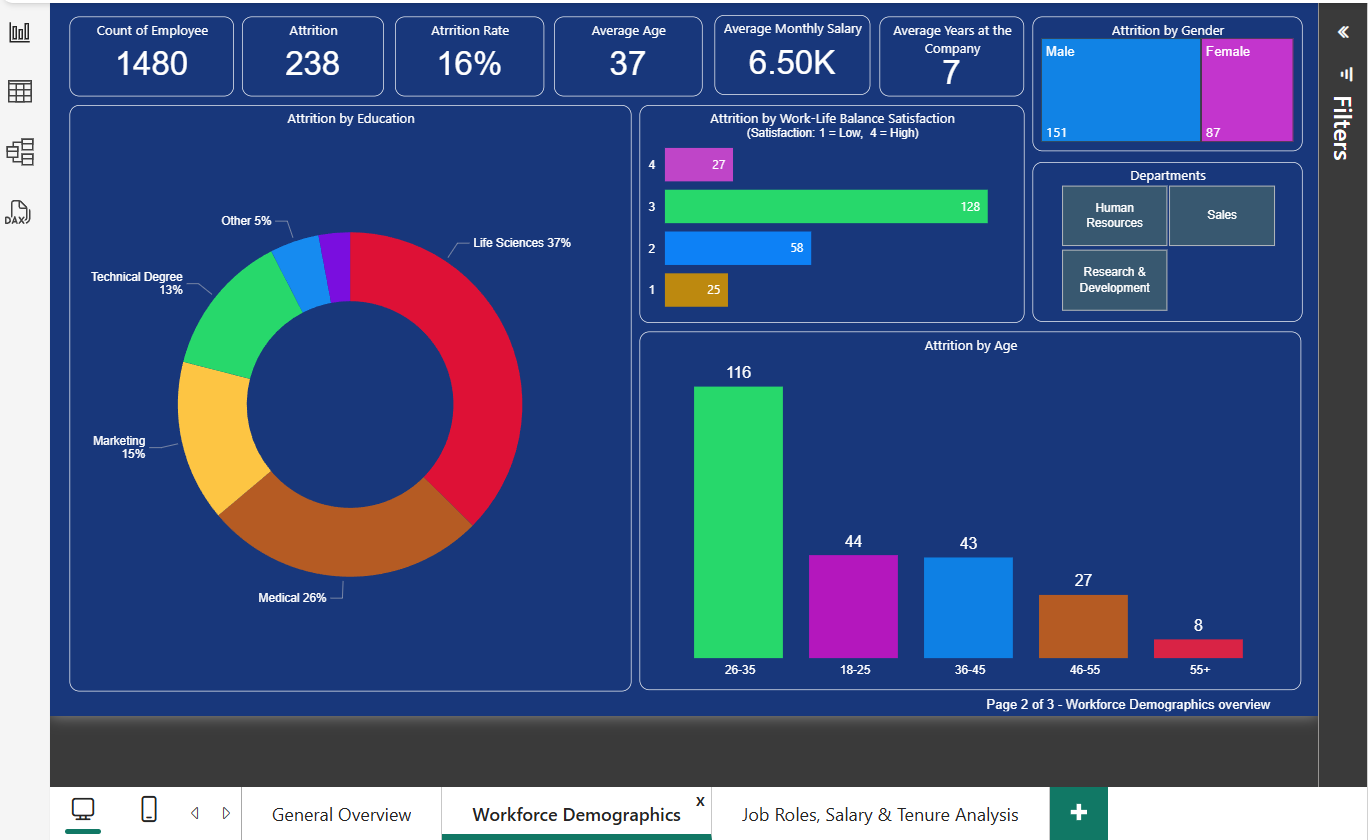

What the dashboard file says about the page in this screenshot:
{"tool":"powerbi","page":{"name":"Workforce Demographics","canvas":[1280,720],"ordinal":1},"visuals":[{"type":"card","title":"Count of Employee","fields":{"Values":["CountNonNull(HR_Data.EmpID)"]},"box":[20,13.6,166.1,80.8],"z":0},{"type":"card","title":"Attrition","fields":{"Values":["Sum(HR_Data.Attriction_Count)"]},"box":[193.4,13.6,143.4,80.8],"z":1000},{"type":"card","title":"Atrrition Rate","fields":{"Values":["HR_Data.Attriction_Rate"]},"box":[347.7,13.6,150.7,80.8],"z":2000},{"type":"card","title":"Average Age","fields":{"Values":["Avg(HR_Data.Age)"]},"box":[509.3,13.6,149.8,80.8],"z":3000},{"type":"card","title":"Average Monthly Salary","fields":{"Values":["Avg(HR_Data.MonthlyIncome)"]},"box":[670.9,12.7,157,80.8],"z":4000},{"type":"card","title":"Average Years at the Company","fields":{"Values":["Avg(HR_Data.YearsAtCompany)"]},"box":[837,13.6,146.2,80.8],"z":5000},{"type":"slicer","title":"Departments","fields":{"Values":["Departments.Department"]},"box":[991.3,160.7,272.3,161.6],"z":6000},{"type":"donutChart","title":" Attrition by Education","fields":{"Category":["Education.Education"],"Y":["Sum(HR_Data.Attriction_Count)"]},"box":[20,102.6,567.4,591.9],"z":7000},{"type":"columnChart","title":"Attrition by Age","fields":{"Y":["Sum(HR_Data.Attriction_Count)"],"Category":["HR_Data.AgeGroup"]},"box":[594.6,332.3,668.1,362.2],"z":8000},{"type":"treemap","title":"Attrition by Gender","fields":{"Group":["HR_Data.Gender"],"Values":["Sum(HR_Data.Attriction_Count)"]},"box":[991.3,13.6,272.3,136.2],"z":9000},{"type":"textbox","box":[940.8,694.9,310.6,25.1],"z":10000},{"type":"barChart","title":"Attrition by Work-Life Balance Satisfaction","fields":{"Y":["Sum(HR_Data.Attriction_Count)"],"Category":["FactHR_Data.WorkLifeBalance"]},"box":[594.6,102.6,388.5,219.7],"z":11000}]}

Visuals, with their boxes on the page's 1280x720 design canvas (x1, y1, x2, y2). These are canvas units, not pixel positions in the 1368x840 screenshot, which may show the page scaled, cropped or inside an application window:
"Count of Employee" card: 20, 14, 186, 94
"Attrition" card: 193, 14, 337, 94
"Atrrition Rate" card: 348, 14, 498, 94
"Average Age" card: 509, 14, 659, 94
"Average Monthly Salary" card: 671, 13, 828, 94
"Average Years at the Company" card: 837, 14, 983, 94
"Departments" slicer: 991, 161, 1264, 322
" Attrition by Education" donutChart: 20, 103, 587, 694
"Attrition by Age" columnChart: 595, 332, 1263, 694
"Attrition by Gender" treemap: 991, 14, 1264, 150
textbox: 941, 695, 1251, 720
"Attrition by Work-Life Balance Satisfaction" barChart: 595, 103, 983, 322
